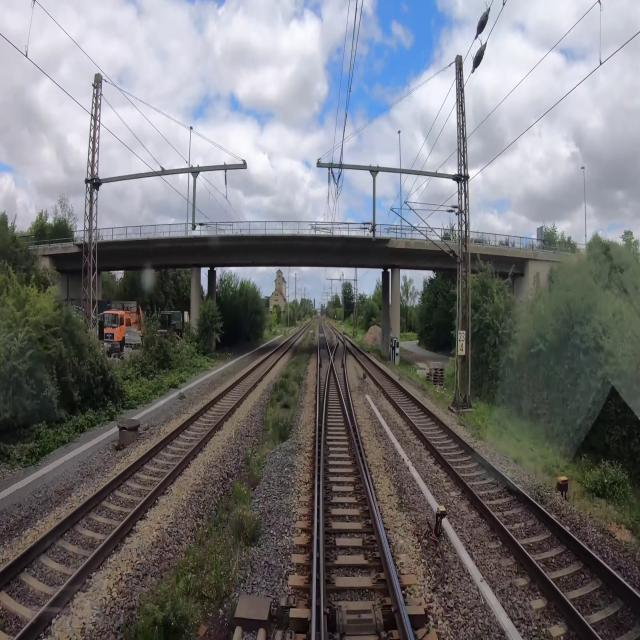Plant: (130, 520, 242, 639), (264, 320, 318, 443), (212, 480, 262, 543), (242, 441, 266, 487)
